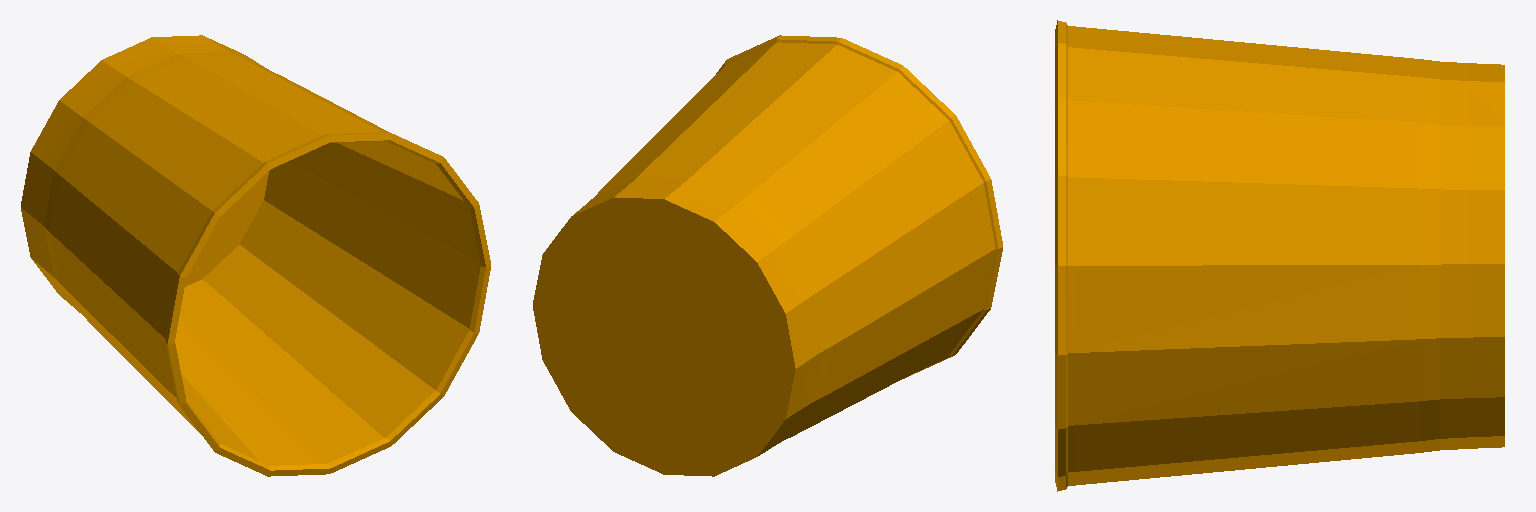
robot.urdf — cask:
<?xml version="1.0"?>
<robot name="cask">
    <link name="cask">
        <visual>
            <geometry>
                <mesh filename="../../mesh/cask/cask.obj" scale="1 1 1"/>
            </geometry>
        </visual>
        <collision>
            <geometry>
                <mesh filename="../../mesh/cask/cask.obj" scale="1 1 1"/>
            </geometry>
            <sdf resolution="512"/>
        </collision>
        <!-- <inertial>
            <mass value="1."/>
            <inertia ixx="0.0001" ixy="0.0" ixz="0.0" iyy="0.0001" iyz="0.0" izz="0.0001"/>
        </inertial> -->
    </link>
</robot>

--- Render facts (derived) ---
3 views of the same robot in one strip: view 1: azimuth 30°, elevation 25°; view 2: azimuth 150°, elevation 25°; view 3: azimuth 270°, elevation 25° (orthographic).
Model cask with 1 links and 0 joints (none), rooted at cask, posed all joints at 0.
Visible links, largest first — view 1: cask; view 2: cask; view 3: cask.
Link boxes in pixels (box(x1,y1,x2,y2)): cask: box(21, 35, 490, 476); cask: box(533, 35, 1002, 476); cask: box(1055, 20, 1504, 491).
Bounding box of the posed robot: 0.2063 × 0.1966 × 0.2063 m (x, y, z).
1 mesh visuals loaded from 1 distinct referenced files (1 OBJ).